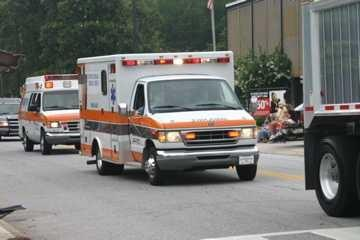car: (76, 50, 259, 185), (17, 73, 80, 154)
